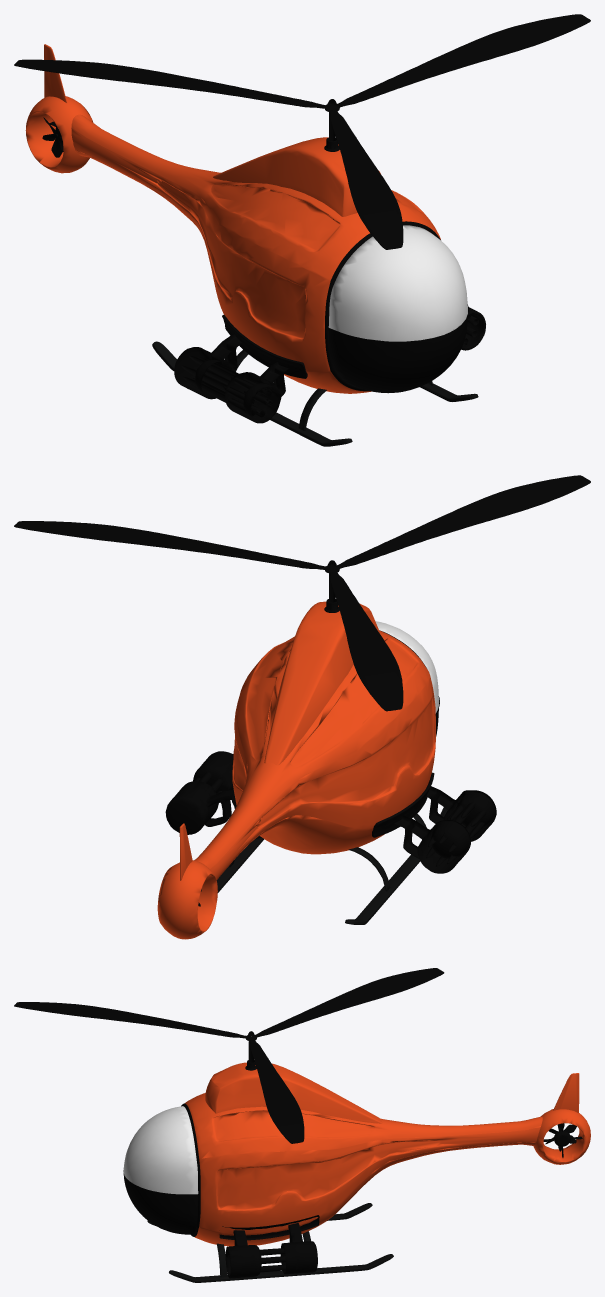
Rendered from helicopter.glb.
3 views of the same model, one above another, from view 1: azimuth 30°, elevation 25°; view 2: azimuth 150°, elevation 25°; view 3: azimuth 270°, elevation 25° (orthographic). The views are drawn at different scales.
Parts seen in each view (by area): view 1: HelicopterBody, Sphere, TopFin, GatlingGun, TopEngine, BackWingsContainer, StandPlane, HelicopterBody.001, GlassGasket, Plane.001; view 2: HelicopterBody, TopFin, GatlingGun, TopEngine, BackWingsContainer, StandPlane, Sphere, HelicopterBody.001; view 3: HelicopterBody, Sphere, TopFin, TopEngine, GatlingGun, StandPlane, BackWingsContainer, HelicopterBody.001, Plane.001, GlassGasket.
Boxes of the visible parts, x1,y1,x2,y2 form: HelicopterBody: (71, 114, 440, 393); Sphere: (328, 225, 467, 393); TopFin: (14, 14, 590, 249); GatlingGun: (174, 307, 485, 423); TopEngine: (213, 137, 380, 216); BackWingsContainer: (25, 96, 93, 173); StandPlane: (152, 341, 478, 446); HelicopterBody.001: (222, 315, 307, 378); GlassGasket: (325, 221, 440, 391); Plane.001: (44, 44, 67, 102); HelicopterBody: (194, 630, 435, 879); TopFin: (14, 475, 590, 711); GatlingGun: (165, 751, 496, 873); TopEngine: (264, 601, 379, 765); BackWingsContainer: (157, 860, 217, 939); StandPlane: (216, 807, 447, 924); Sphere: (375, 621, 438, 736); HelicopterBody.001: (231, 772, 434, 837); HelicopterBody: (185, 1093, 542, 1246); Sphere: (123, 1106, 198, 1234); TopFin: (14, 968, 444, 1143); TopEngine: (205, 1062, 382, 1123); GatlingGun: (225, 1223, 317, 1278); StandPlane: (147, 1203, 393, 1282); BackWingsContainer: (533, 1109, 590, 1164); HelicopterBody.001: (219, 1215, 319, 1240); Plane.001: (553, 1073, 579, 1112); GlassGasket: (181, 1103, 200, 1236).
Size of the model in its own units: 3.66 by 2.15 by 5.11.
